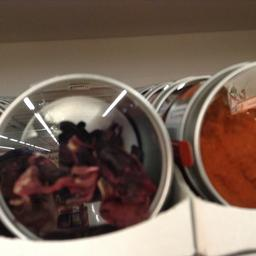spices: (0, 72, 169, 238), (180, 60, 254, 210)
